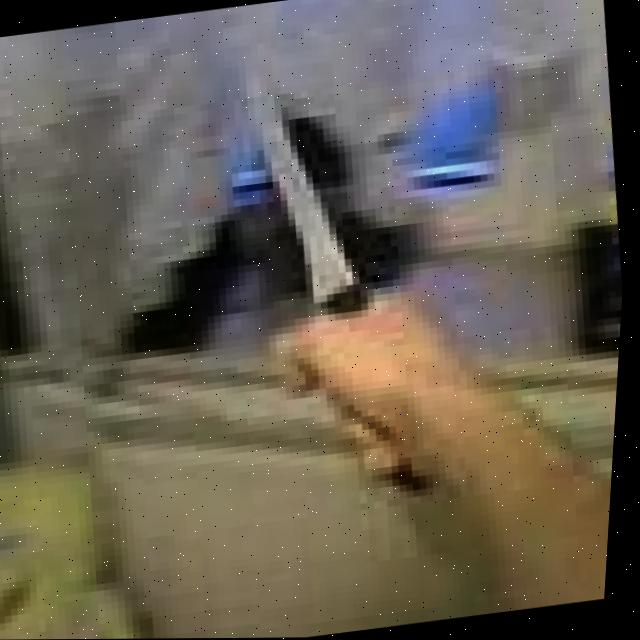knife: (226, 45, 388, 334)
